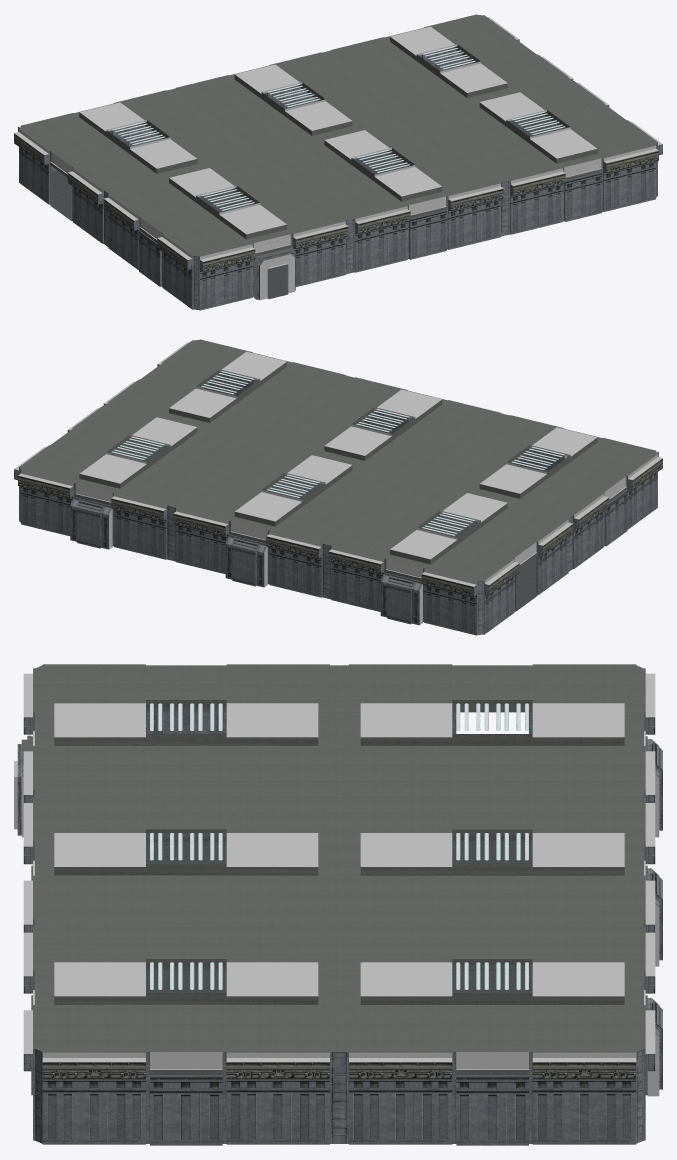
File: poi_all_impl_bunker_research_facility_s01_r14_sleepingquarters_mesh.fbx
The picture shows the model from 3 angles, top to bottom: view 1: azimuth 30°, elevation 25°; view 2: azimuth 150°, elevation 25°; view 3: azimuth 270°, elevation 25°; orthographic projection. The views are drawn at different scales.
Visible parts, largest first — view 1: mesh_node; view 2: mesh_node; view 3: mesh_node.
Part boxes in pixels (left/top/right/bottom): mesh_node: left=14, top=14, right=662, bottom=310; mesh_node: left=14, top=339, right=662, bottom=635; mesh_node: left=14, top=664, right=662, bottom=1145.
Size of the model in its own units: 49 by 6 by 33.9.
